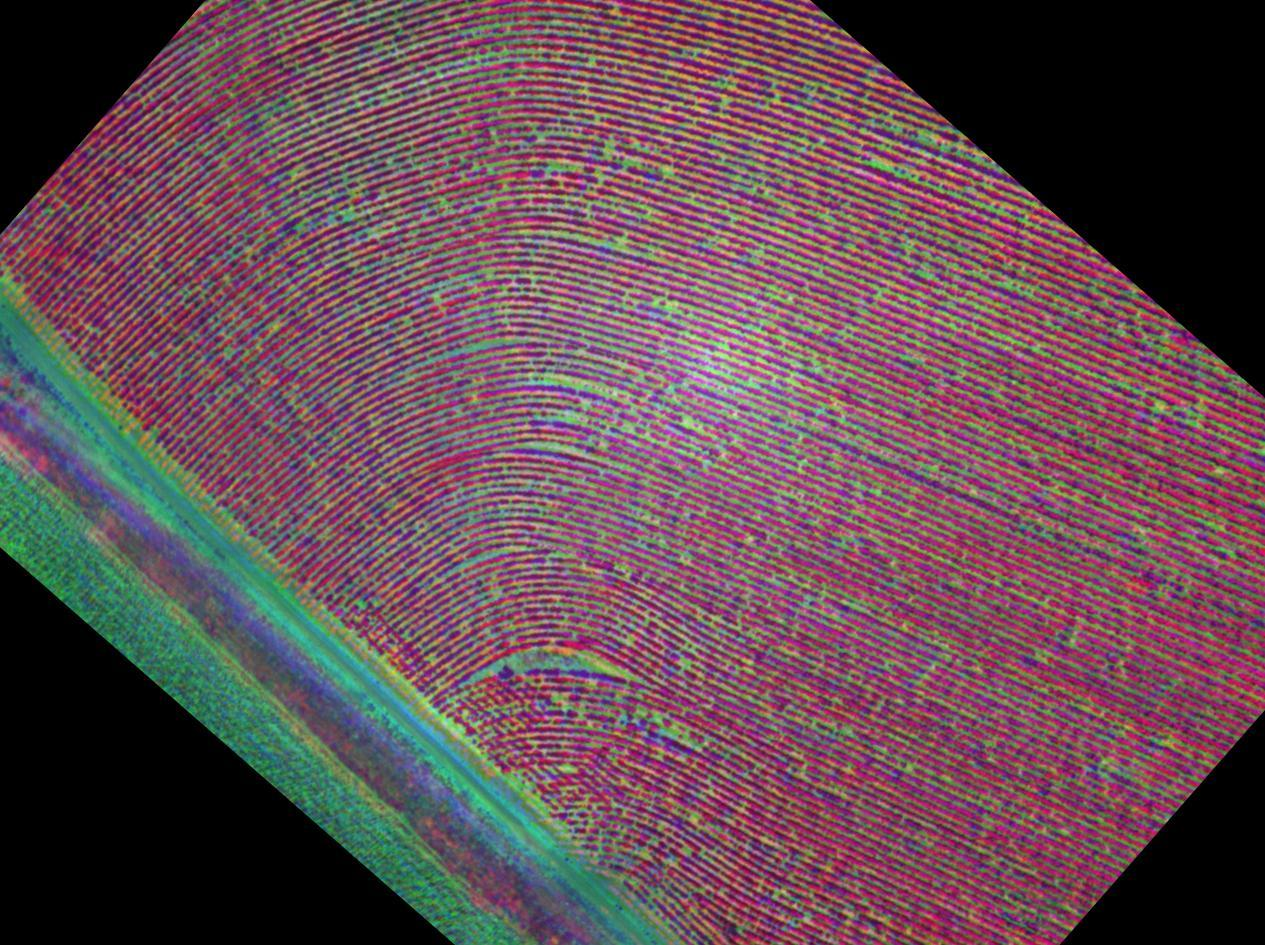dc: (328, 3, 437, 131), (503, 350, 589, 476), (868, 130, 967, 238), (698, 320, 804, 412), (491, 630, 616, 694)
